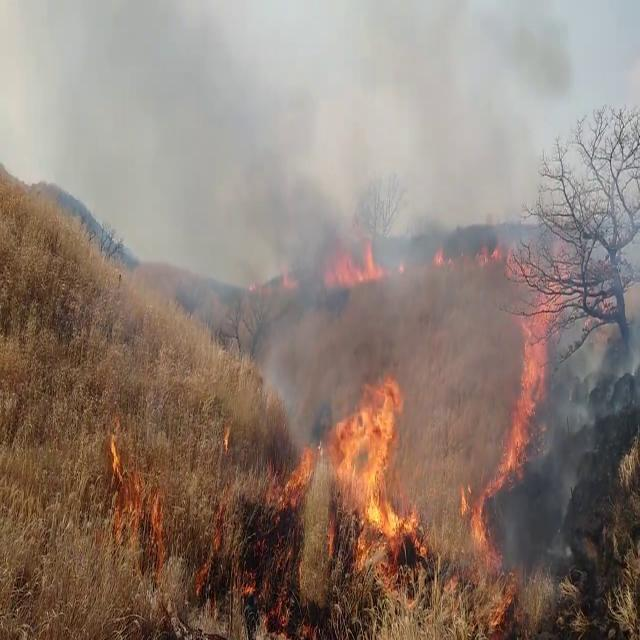Fire: (292, 360, 416, 575), (502, 285, 552, 483), (105, 401, 163, 543), (458, 471, 496, 573), (323, 238, 384, 296), (476, 228, 502, 270), (431, 235, 449, 272)
Smoke: (132, 0, 464, 388)
